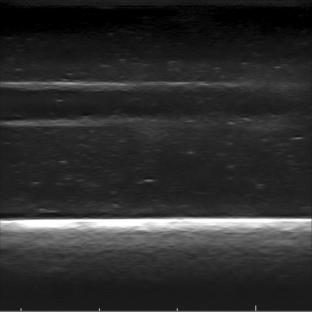vessel: (0, 80, 144, 129)
